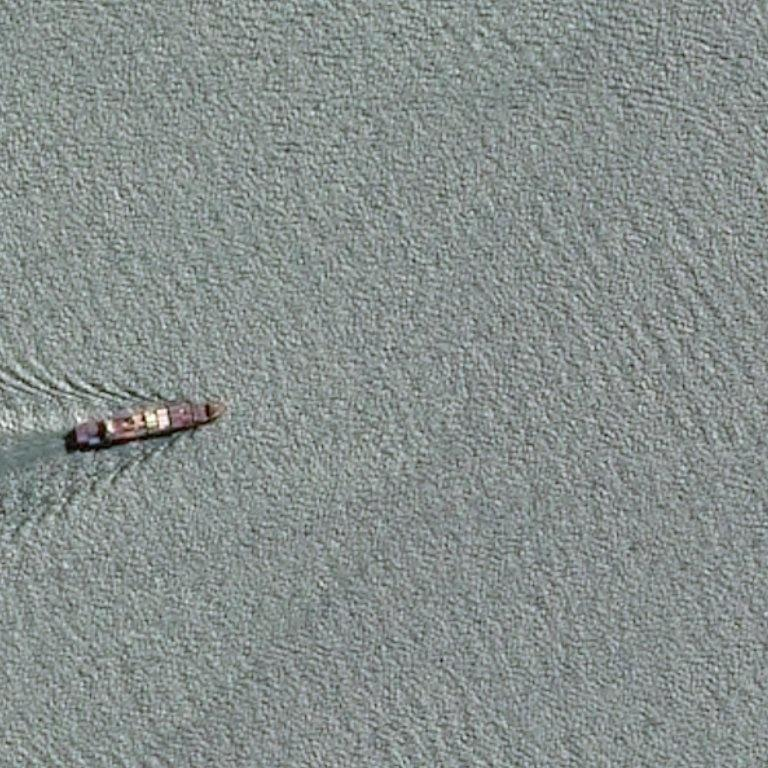ship: (0, 390, 160, 457), (219, 402, 227, 411), (70, 422, 79, 430), (71, 440, 79, 448)
